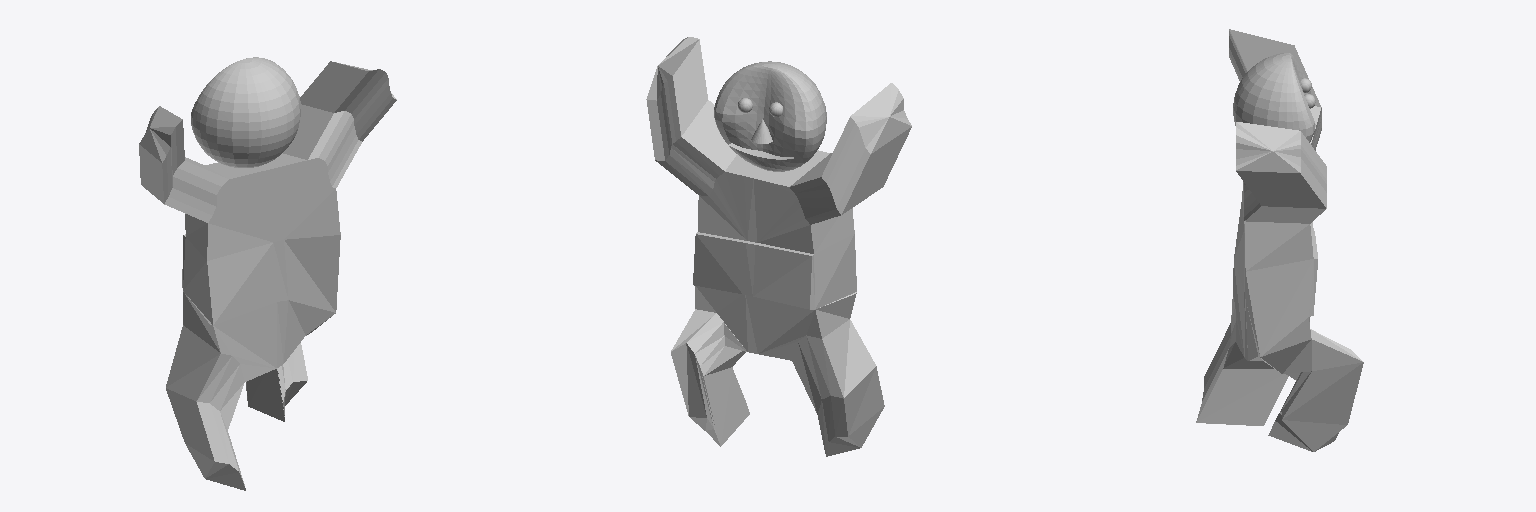
The model's file is man_000010.obj.
3 renders of one model, left to right at view 1: azimuth 30°, elevation 25°; view 2: azimuth 150°, elevation 25°; view 3: azimuth 270°, elevation 25°, orthographic.
Parts seen in each view (by area): view 1: Cube; view 2: Cube; view 3: Cube.
Boxes of the visible parts, <box> form: Cube: <box>139,57,396,490</box>; Cube: <box>646,37,911,456</box>; Cube: <box>1196,29,1363,451</box>.
Bounding box in the file's own units: 79.08 × 124 × 48.32.